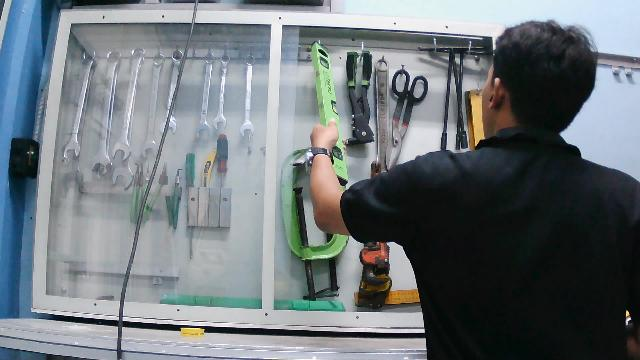water_pass: (309, 37, 349, 186)
